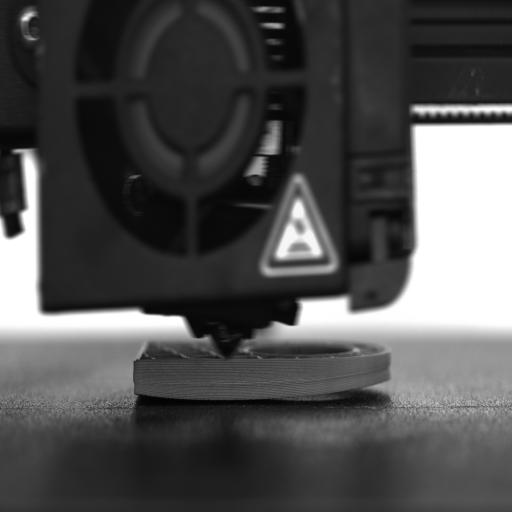warp: (128, 380, 185, 408)
